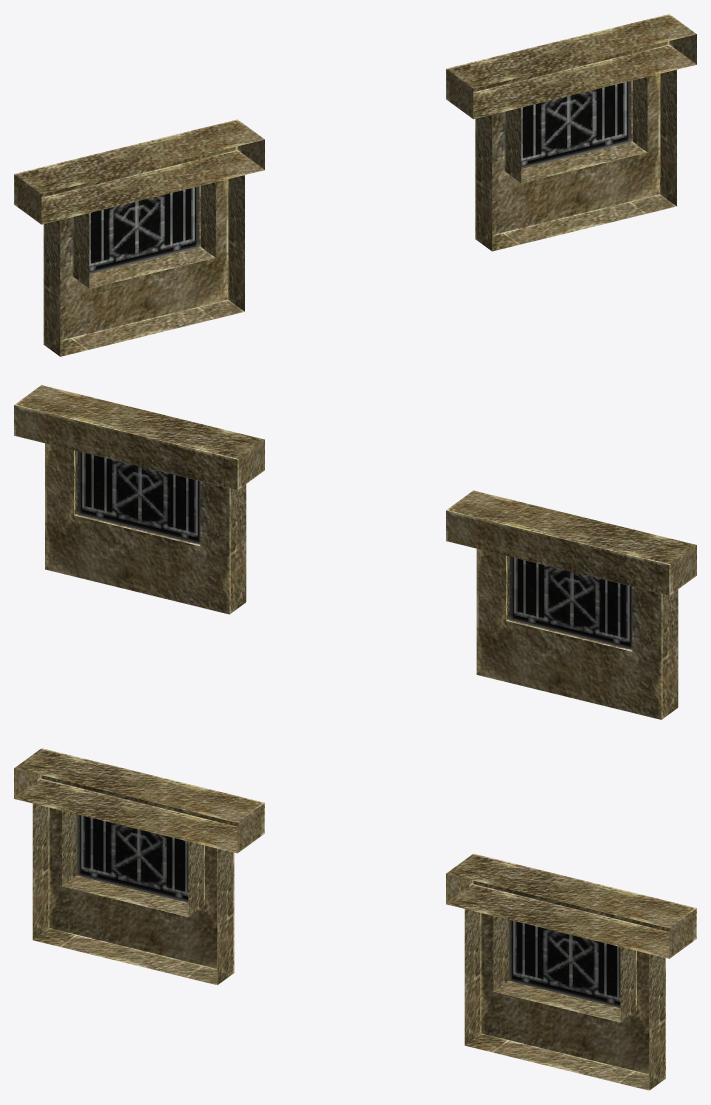
File: hrt_window7.glb
3 views of the same model, one above another, from view 1: azimuth 30°, elevation 25°; view 2: azimuth 150°, elevation 25°; view 3: azimuth 330°, elevation 25° (orthographic).
Visible parts, largest first — view 1: hrt_window7; view 2: hrt_window7; view 3: hrt_window7.
Boxes of the visible parts, bbox=[...] form: hrt_window7: bbox=[14, 14, 696, 356]; hrt_window7: bbox=[14, 385, 696, 719]; hrt_window7: bbox=[14, 748, 696, 1090].
Bounding box in the file's own units: 4.96 × 1.21 × 0.3615.
Materials: 1 (1 with a texture image).
